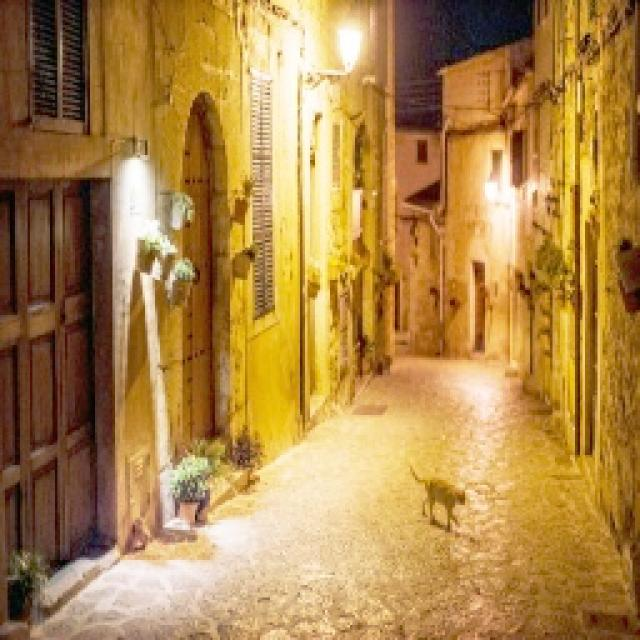cat: (395, 451, 489, 548)
